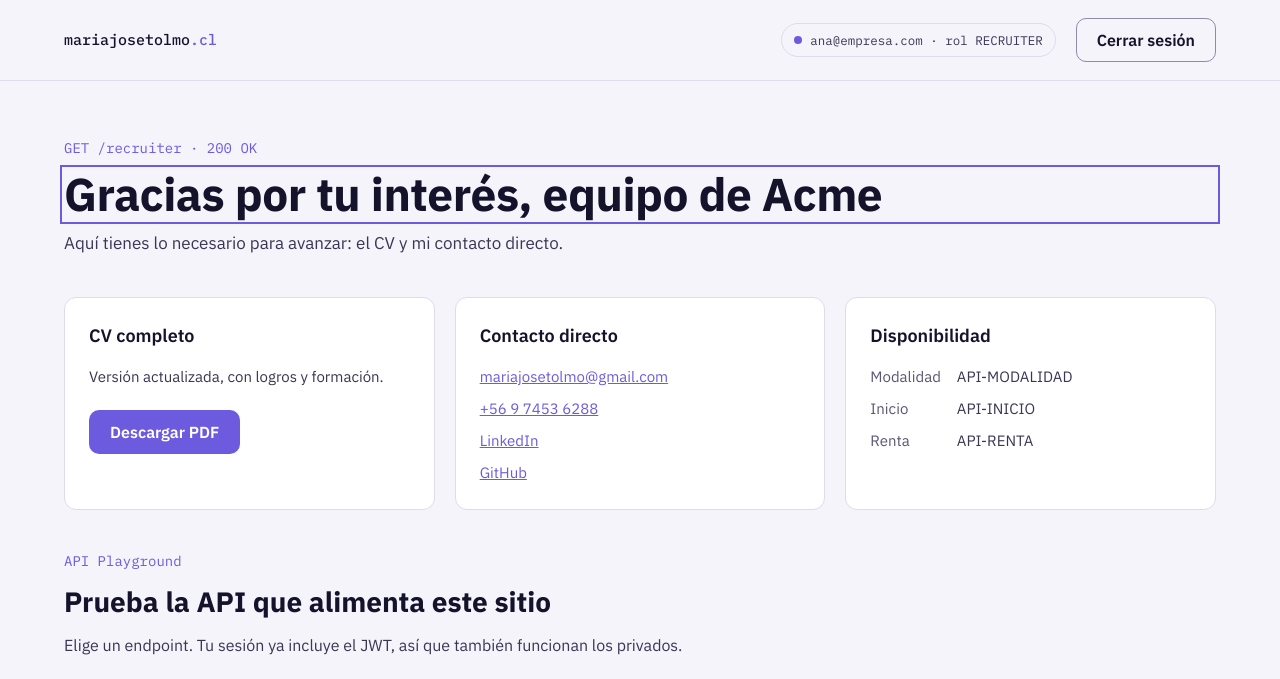
Test: RecruiterZone CV download › shows the service-unavailable copy, not the connection one, on a 503
The width and height of the screenshot is (1280, 679).
Expected: the heading "Gracias por tu interés, equipo de Acme" is shown, [64,164,882,224]
Click the button "Descargar PDF". click: [165, 432]
box: [89,410,240,454]
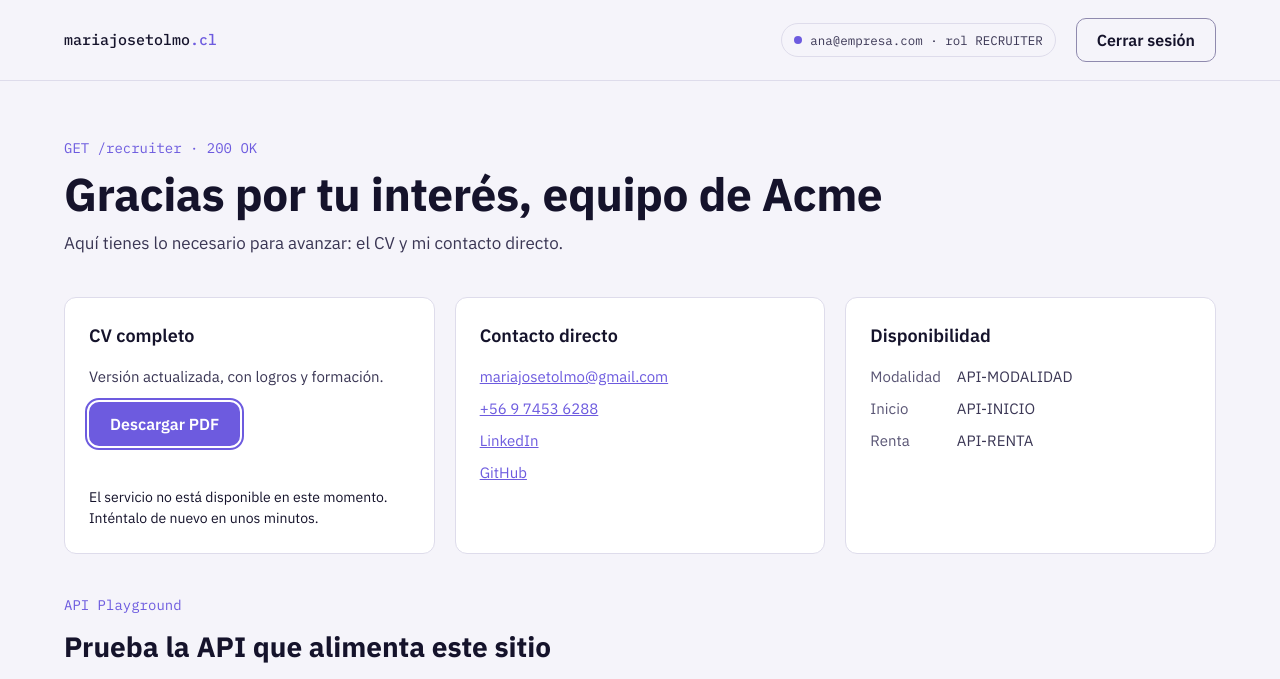
Expected: the message does not show "No pudimos conectar", [89,487,410,529]
Expected: the message shows "El servicio no está disponible", [89,488,387,527]
